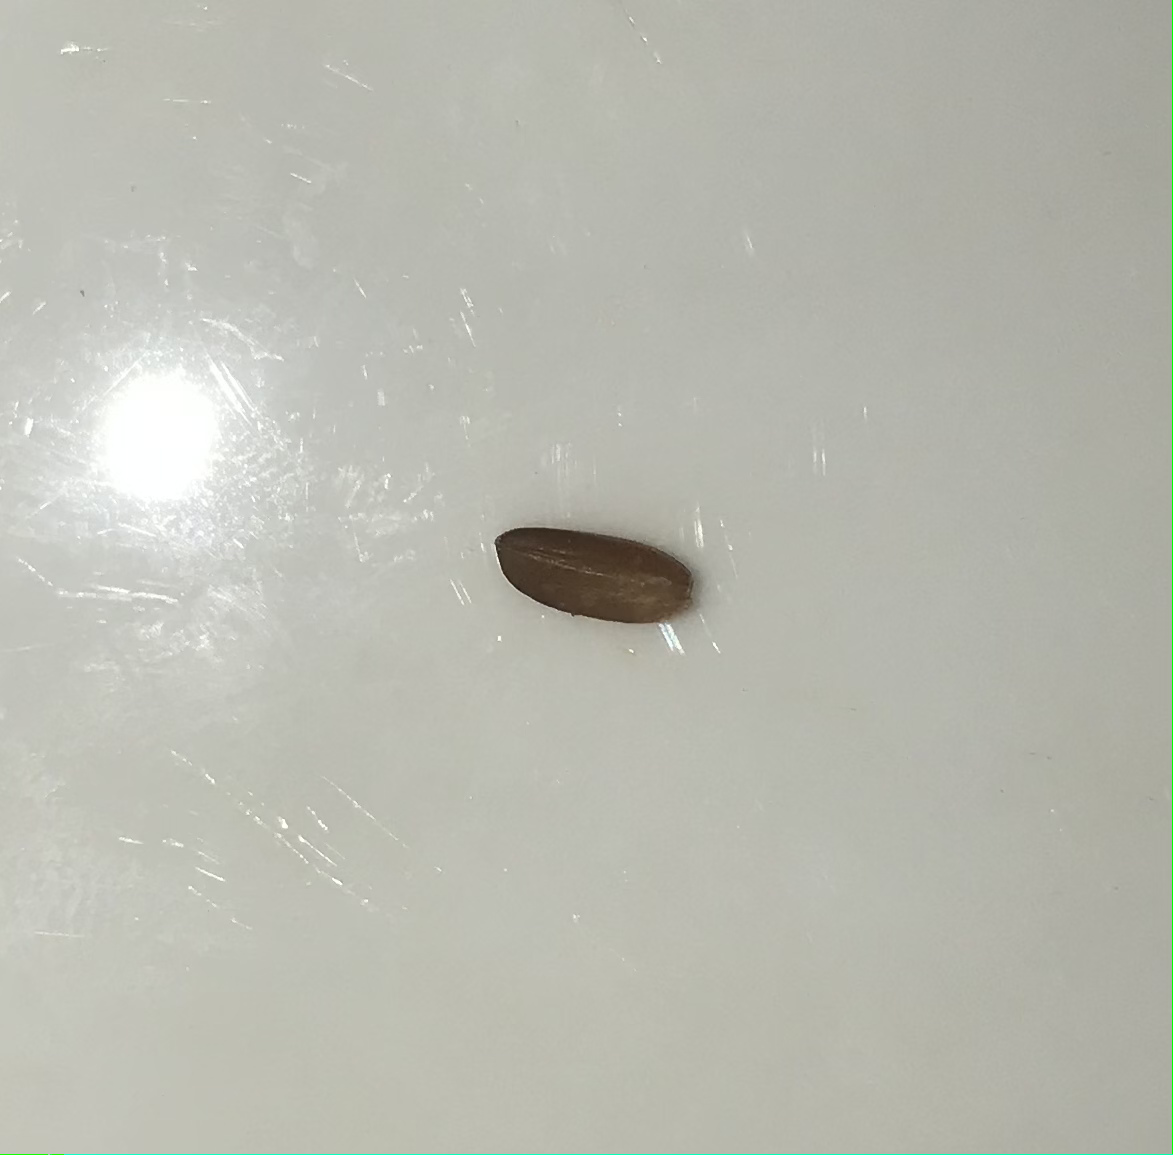Gao Lut Do: (488, 508, 697, 641)
